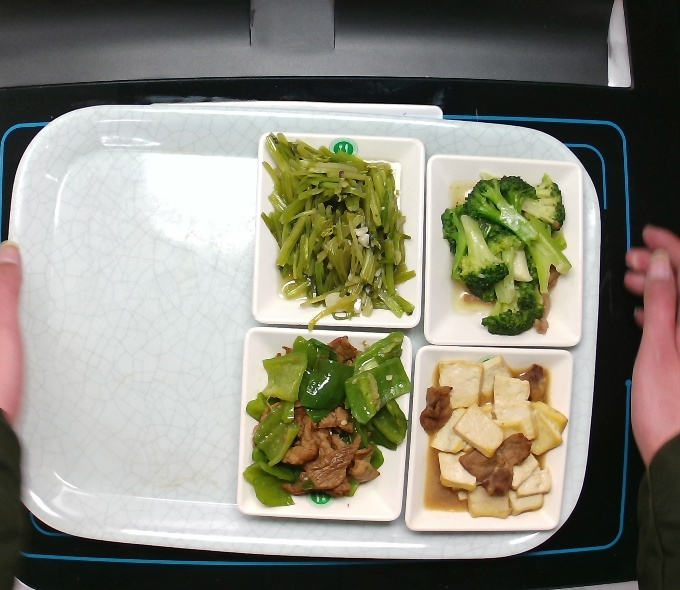wcq-DouFuRouPian: (415, 354, 569, 520)
wcq-QinCai: (261, 125, 424, 324)
wcq-QingJiaoChaoRou: (243, 329, 403, 513)
wcq-XiLanHua: (442, 165, 577, 342)
